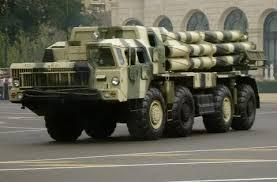MIL_SAM_TEL: (5, 22, 263, 142)
